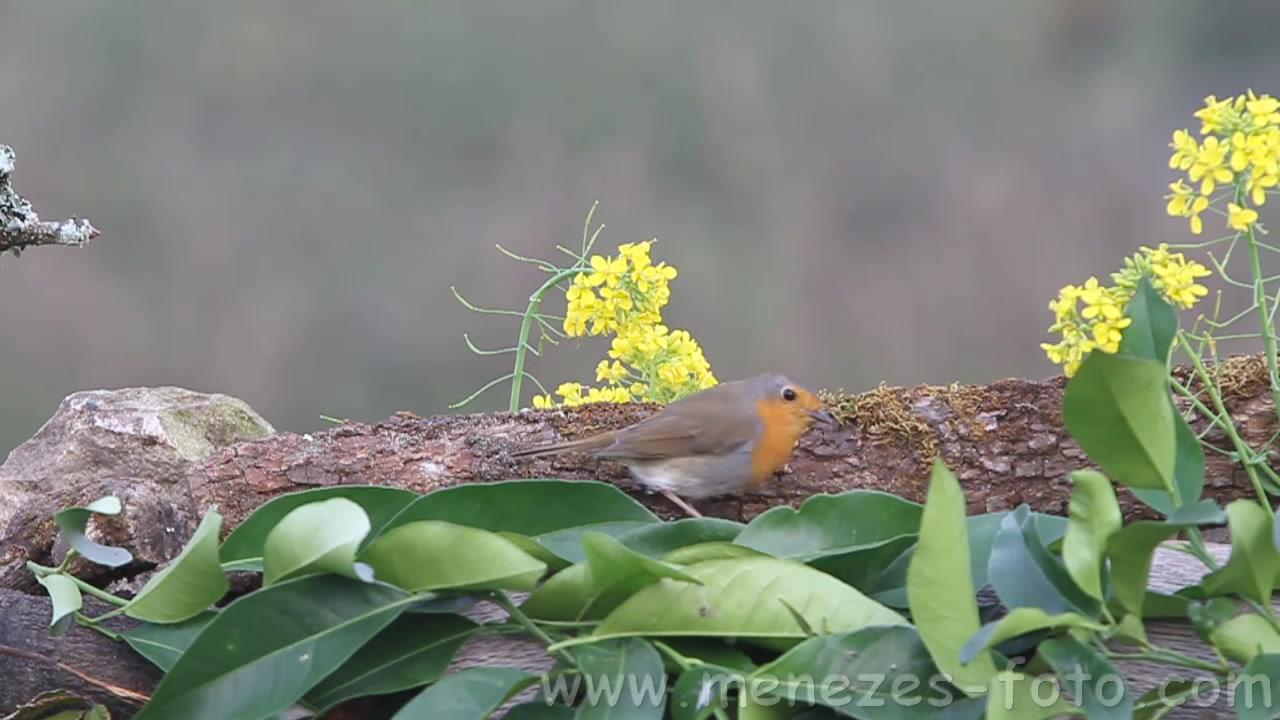bird: (508, 369, 831, 517)
